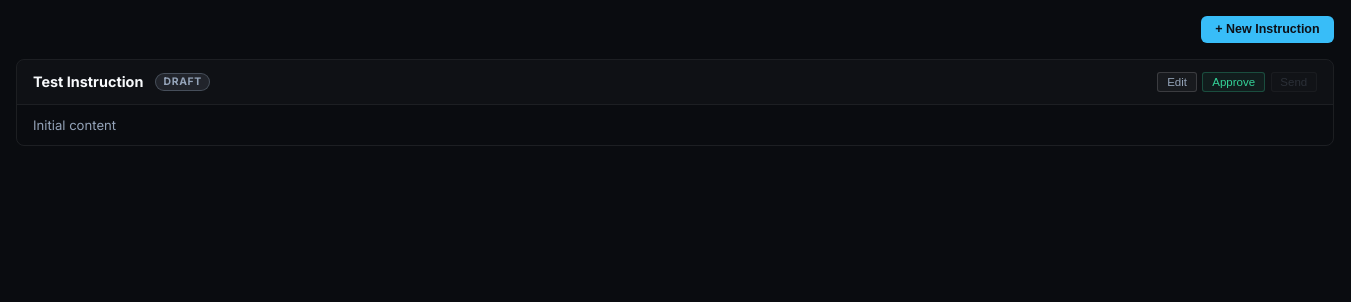
Test case: VoyageInstructionsPanel › new instruction button opens create form
Click the button with test id "new-instruction-btn": click(1267, 29) 1201,16 -> 1334,43
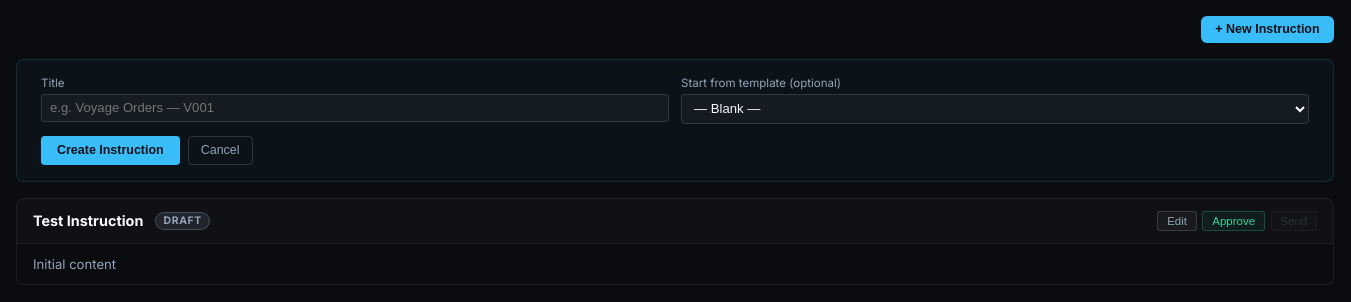
Expected: the field with test id "instruction-title-input" is shown, 41,94 -> 669,122
Expected: the dropdown with test id "template-select" is shown, 681,94 -> 1309,124
